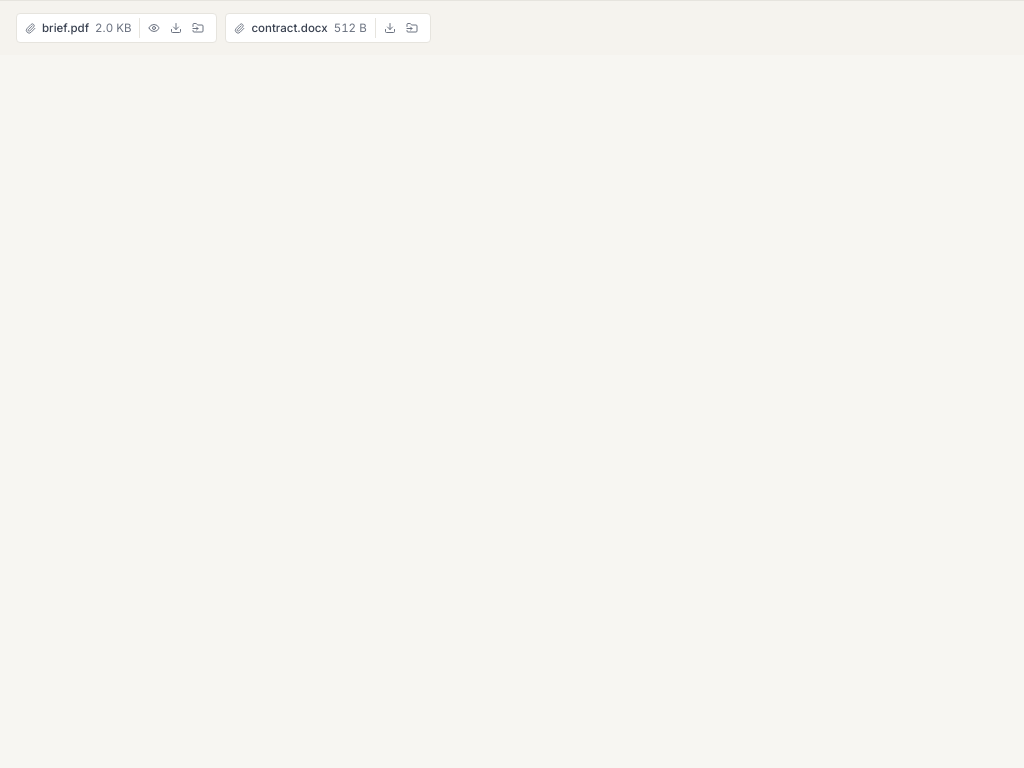
it: filing dialog › server error surfaces in the dialog
Click the button named "File brief.pdf to matter" at (198, 28), box [188,18,208,38]
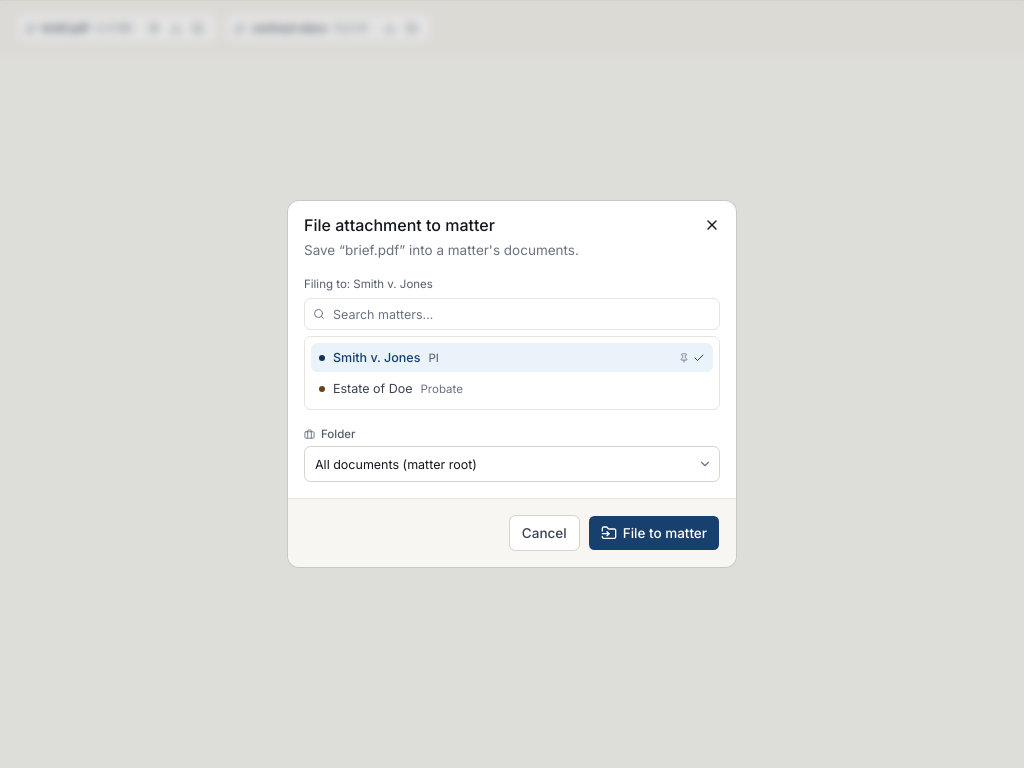
Result: the button "File to matter" is enabled
Click the button "File to matter" at (654, 533), box [588,515,720,551]
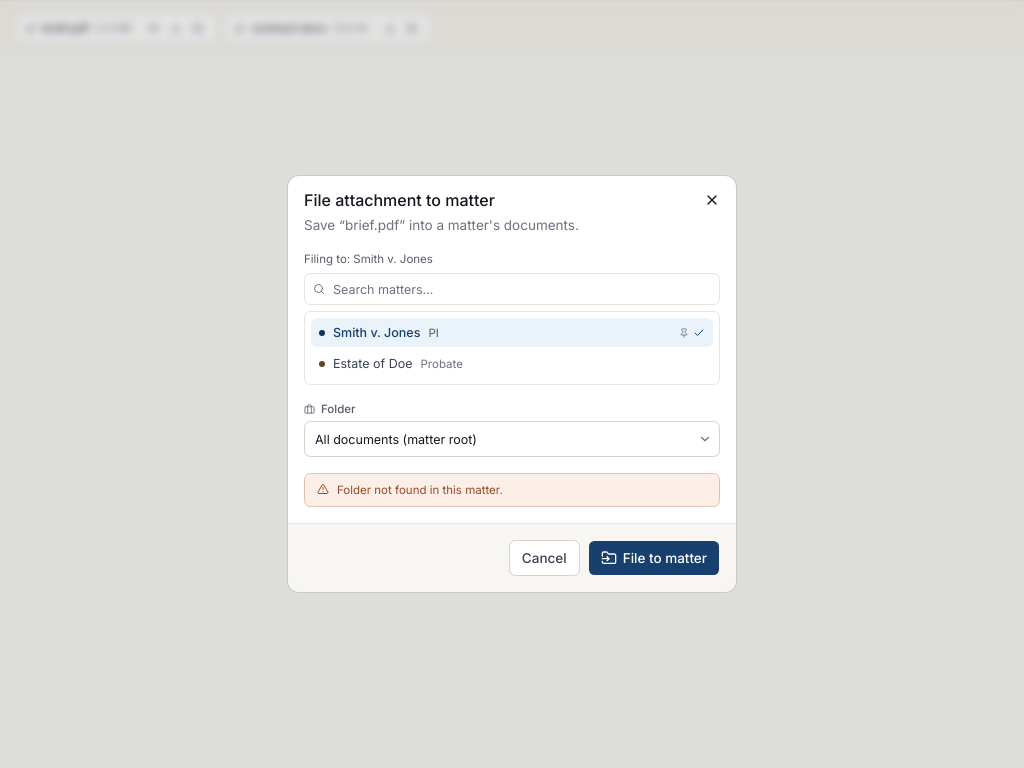
Result: the text "Folder not found in this matter." is shown at [337,482,503,498]
